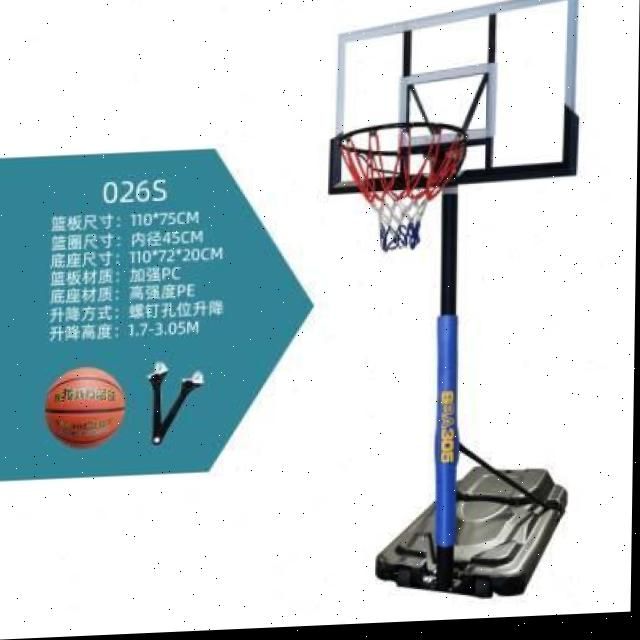basketball: (43, 364, 127, 450)
hoop: (333, 120, 468, 255)
